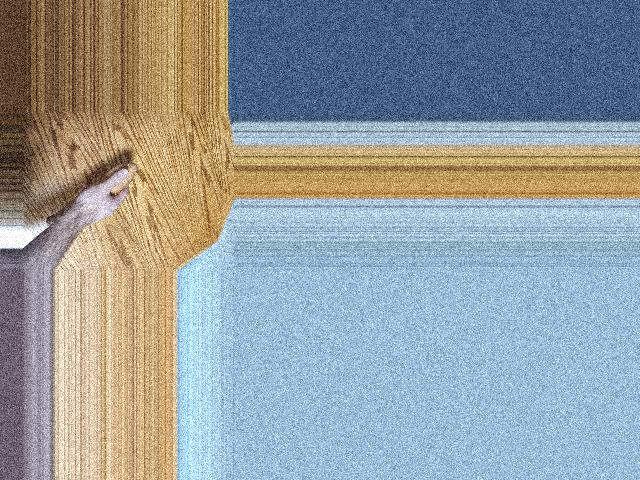sweet_potato: (47, 161, 138, 224)
